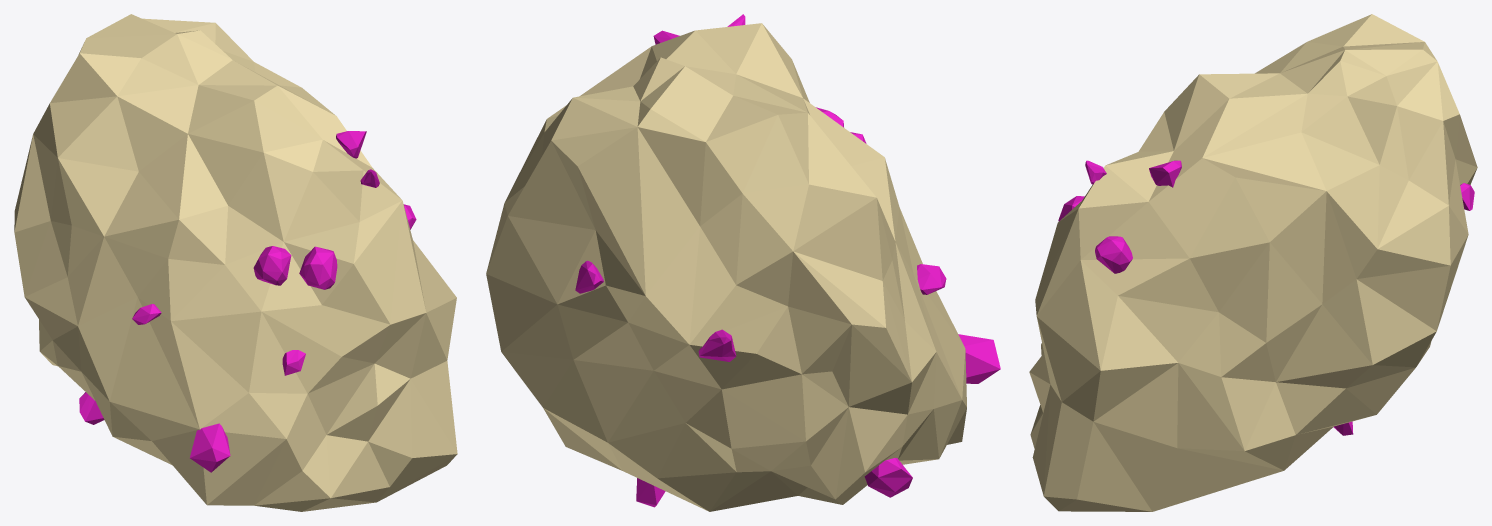
The model's file is CrystalOre (15).fbx.
3 renders of one model, left to right at view 1: azimuth 30°, elevation 25°; view 2: azimuth 150°, elevation 25°; view 3: azimuth 270°, elevation 25°, orthographic. The views are drawn at different scales.
Parts seen in each view (by area): view 1: Asteroid235; view 2: Asteroid235; view 3: Asteroid235.
Part boxes in pixels (x1,y1,x2,y2): Asteroid235: (14,14,457,511); Asteroid235: (486,14,1000,511); Asteroid235: (1029,14,1477,511).
Size of the model in its own units: 541 by 617 by 597.
